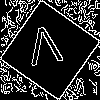V: (25, 25, 66, 75)
